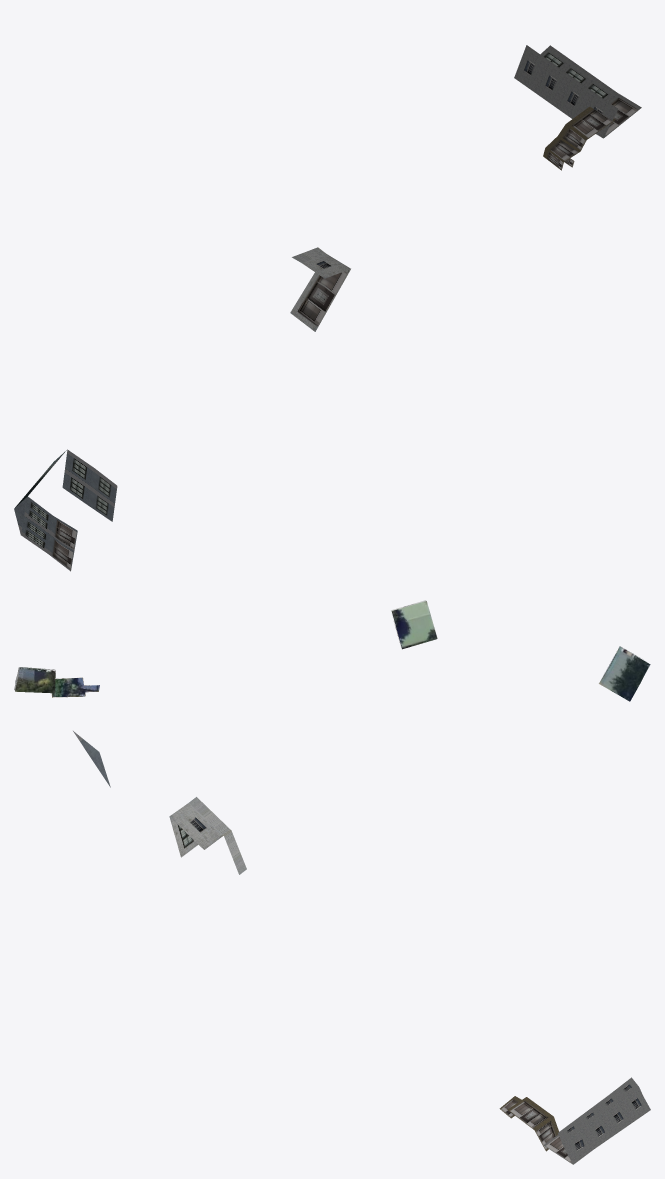
File: tile_LOD8_r5_c5.glb
3 renders of one model, top to bottom at view 1: azimuth 30°, elevation 25°; view 2: azimuth 150°, elevation 25°; view 3: azimuth 270°, elevation 25°, orthographic. The views are drawn at different scales.
Size of the model in its own units: 117 by 22 by 82.
Materials: 17 (17 with a texture image).
